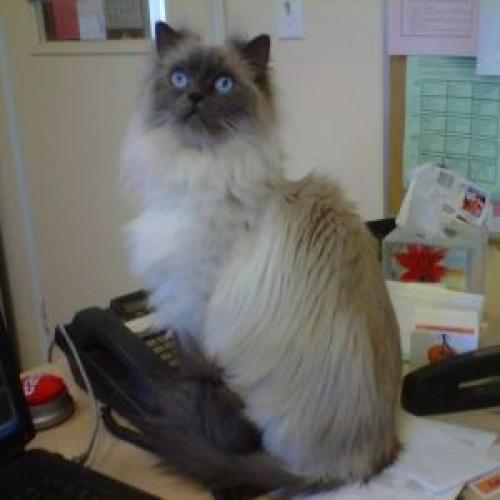ragdoll: (140, 22, 275, 172)
